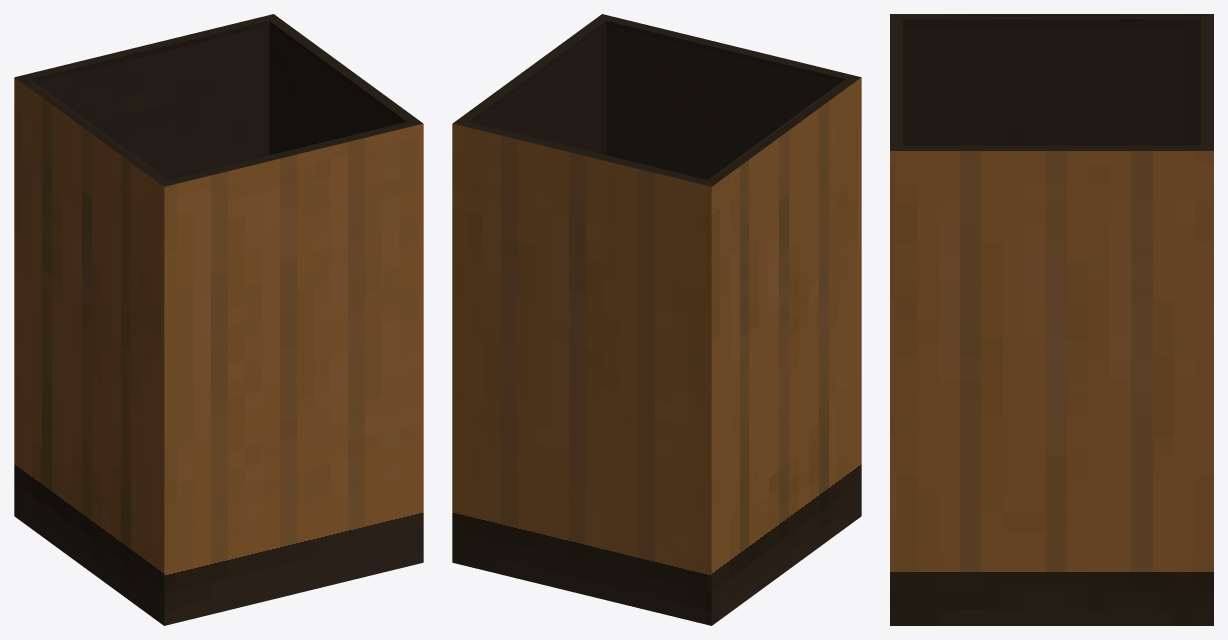
Rendered from trash can.fbx.
3 views of the same model, side by side, from view 1: azimuth 30°, elevation 25°; view 2: azimuth 150°, elevation 25°; view 3: azimuth 270°, elevation 25° (orthographic). The views are drawn at different scales.
Parts seen in each view (by area): view 1: Куб; view 2: Куб; view 3: Куб.
Boxes of the visible parts, x1,y1,x2,y2 form: Куб: (14, 14, 423, 625); Куб: (452, 14, 861, 625); Куб: (890, 14, 1213, 625).
Bounding box in the file's own units: 50 × 80.89 × 50.
Materials: 1 (1 with a texture image).
